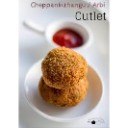cutlet: (45, 49, 85, 85), (40, 79, 85, 105)
